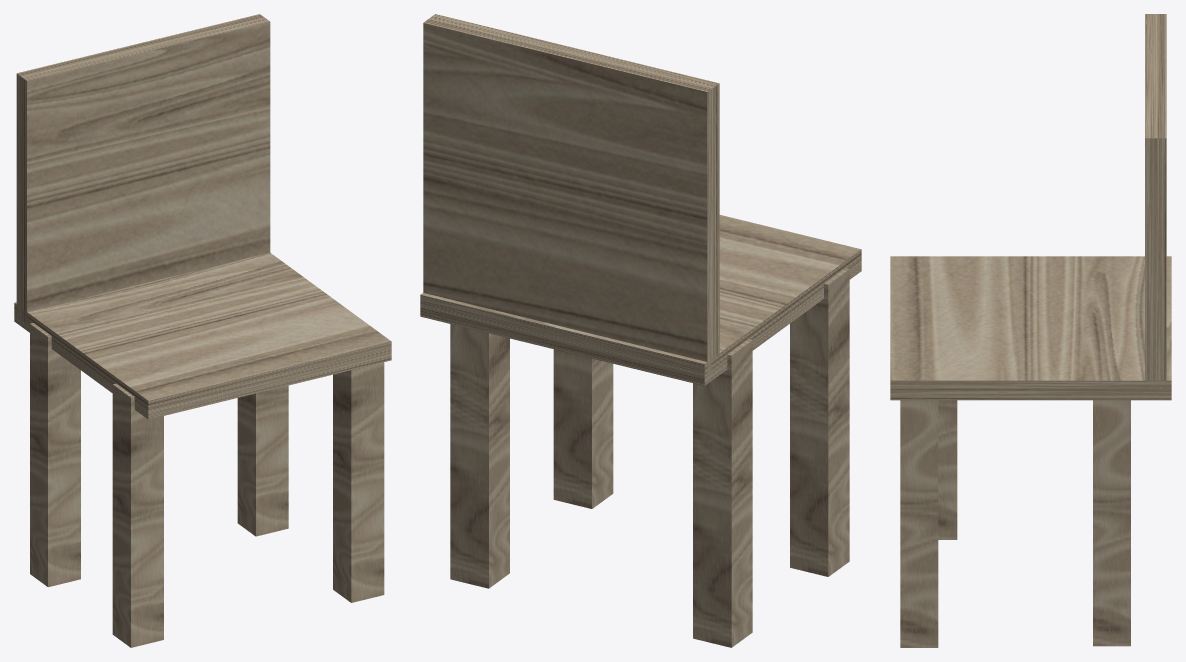
File: woodchair.fbx
3 renders of one model, left to right at view 1: azimuth 30°, elevation 25°; view 2: azimuth 150°, elevation 25°; view 3: azimuth 270°, elevation 25°, orthographic. The views are drawn at different scales.
Visible parts, largest first — view 1: pCube7, pCube6, pCube5, pCube1, pCube2, pCube3; view 2: pCube7, pCube6, pCube1, pCube5, pCube3, pCube2; view 3: pCube6, pCube2, pCube3, pCube7, pCube5.
Part boxes in pixels (<box>): pCube7: <box>16,14,270,323</box>; pCube6: <box>14,252,391,419</box>; pCube5: <box>112,383,163,647</box>; pCube1: <box>30,323,80,587</box>; pCube2: <box>333,362,384,602</box>; pCube3: <box>237,385,288,536</box>; pCube7: <box>423,14,719,376</box>; pCube6: <box>420,215,861,385</box>; pCube1: <box>693,339,752,647</box>; pCube5: <box>790,268,849,576</box>; pCube3: <box>450,324,509,588</box>; pCube2: <box>553,349,613,508</box>; pCube6: <box>890,256,1171,400</box>; pCube2: <box>900,400,938,647</box>; pCube3: <box>1093,400,1130,646</box>; pCube7: <box>1145,14,1166,392</box>; pCube5: <box>938,400,957,539</box>.
Bounding box in the file's own units: 2.83 × 5.34 × 2.67.
Materials: 1 (1 with a texture image).
